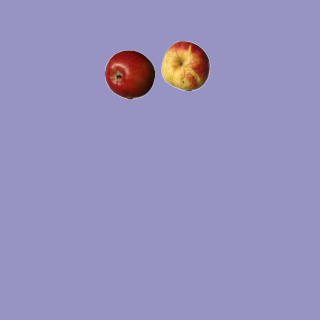Apple Braeburn: (104, 49, 154, 99)
Apple Red Yellow 1: (160, 40, 210, 90)
